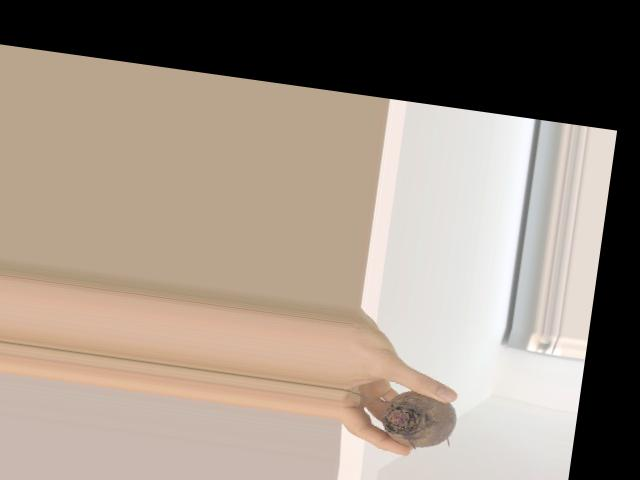beet: (337, 380, 460, 454)
